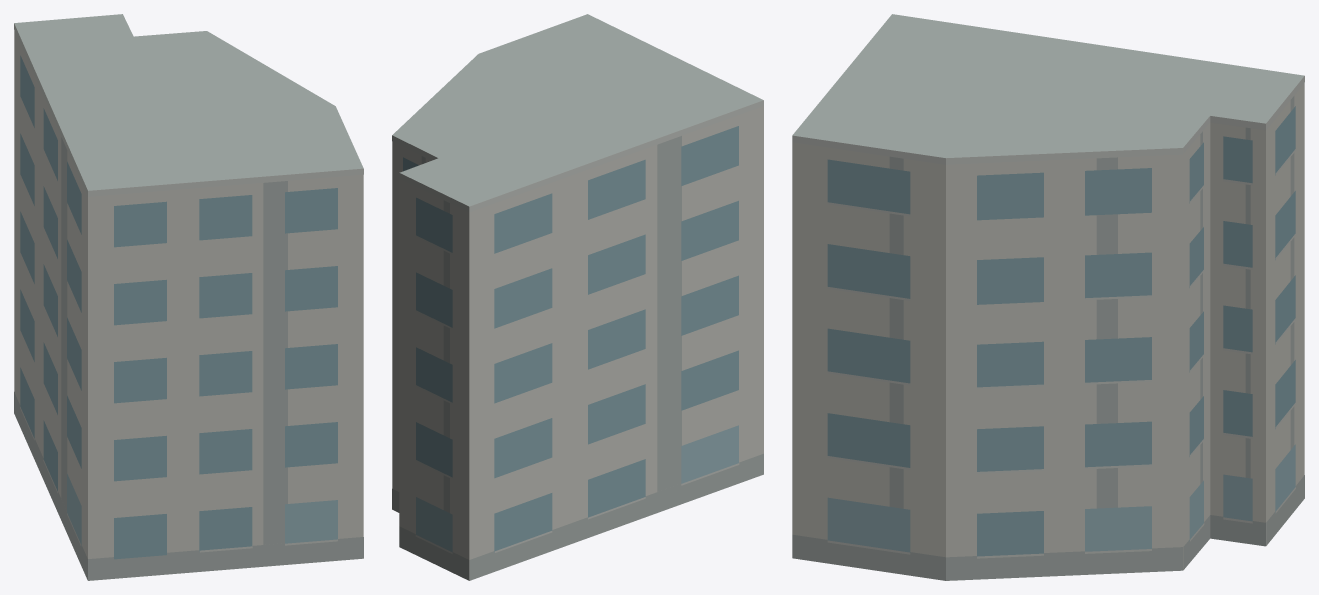
Rendered from survey-upis-32476796.glb.
3 renders of one model, left to right at view 1: azimuth 30°, elevation 25°; view 2: azimuth 150°, elevation 25°; view 3: azimuth 270°, elevation 25°, orthographic. The views are drawn at different scales.
Visible parts, largest first — view 1: survey-upis-32476796.tmp; view 2: survey-upis-32476796.tmp; view 3: survey-upis-32476796.tmp.
Boxes of the visible parts, x1,y1,x2,y2 form: survey-upis-32476796.tmp: (14, 14, 363, 580); survey-upis-32476796.tmp: (392, 14, 763, 580); survey-upis-32476796.tmp: (792, 14, 1304, 580).
Size of the model in its own units: 11.2 by 15.3 by 16.82.
